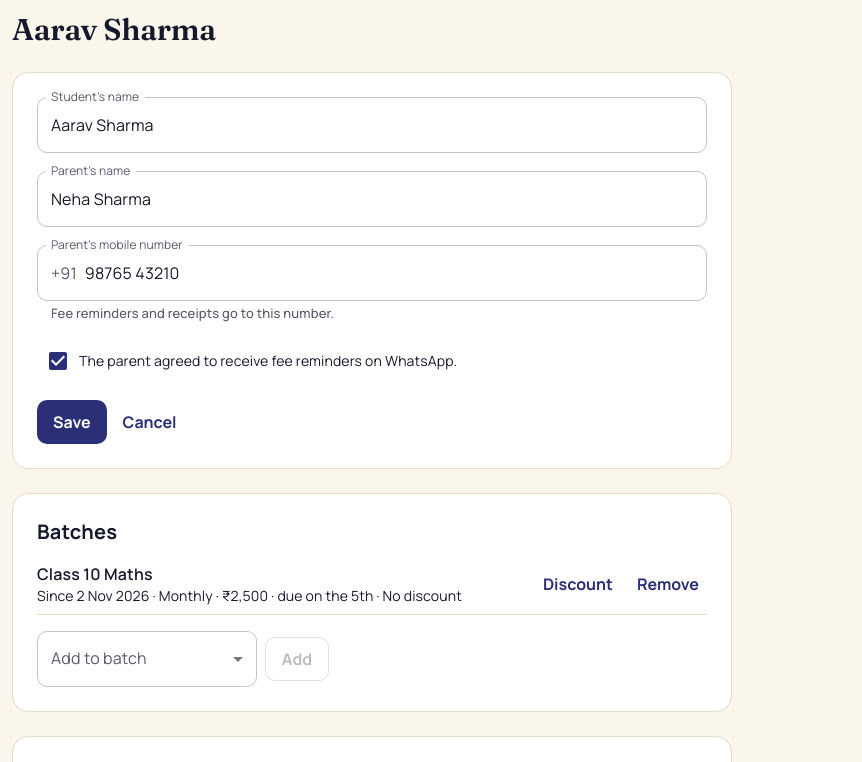
Test: StudentDetail › saves changed details
The width and height of the screenshot is (862, 762).
Replace the text in the field labelled "Student’s name" with "Aarav S. Sharma": coordinates (372, 125) [37,97,707,153]
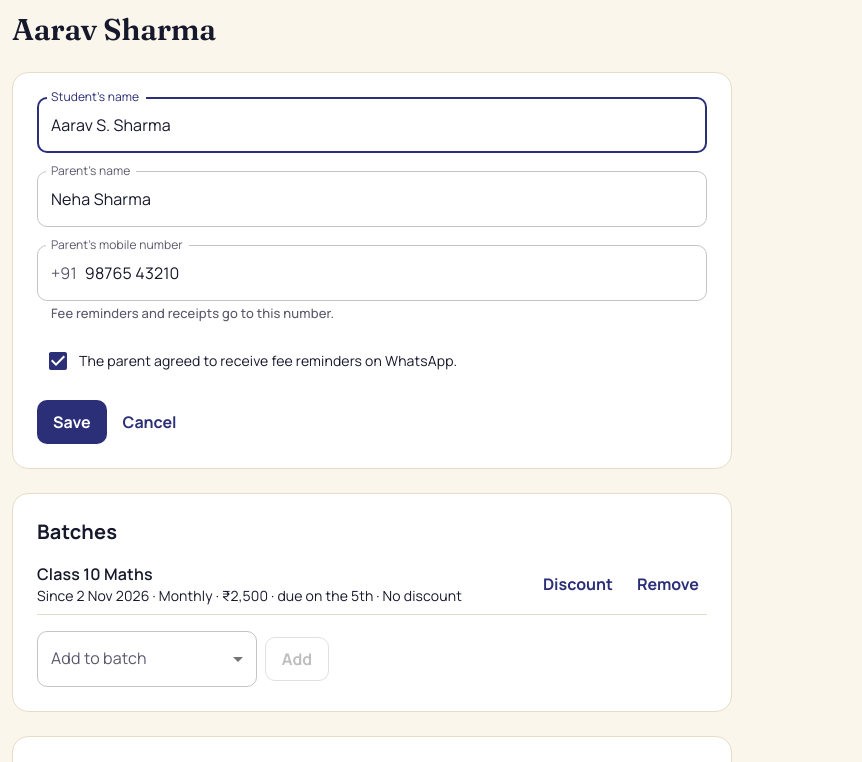
Click the button "Save": coordinates (72, 422) [37,400,107,444]
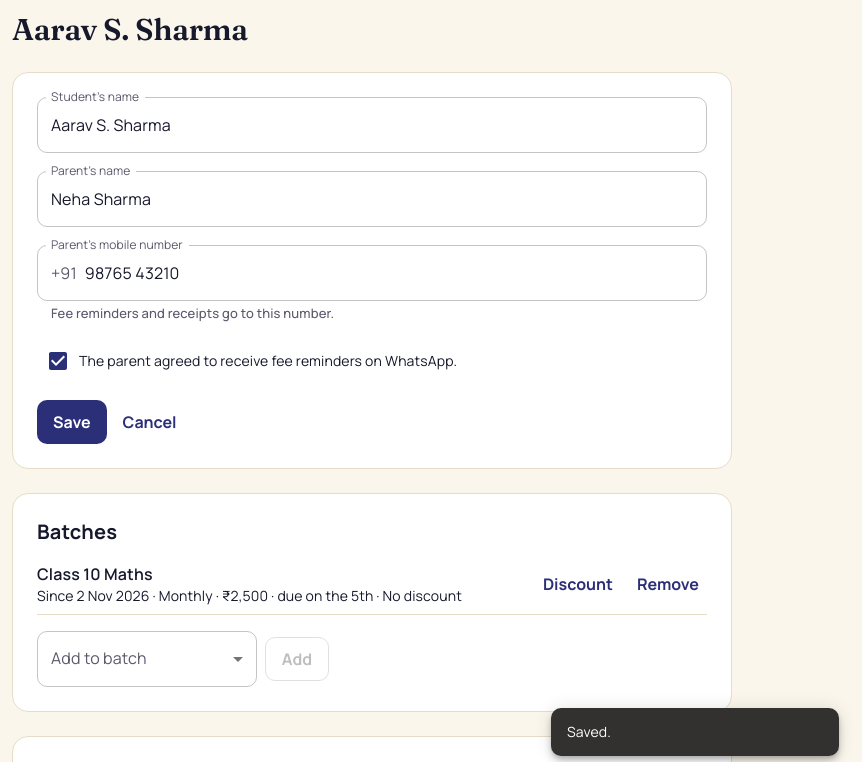
expect the heading "Aarav S. Sharma" is shown: met, box [12,12,248,48]
expect the text "Saved." is shown: met, box [567,722,611,741]
